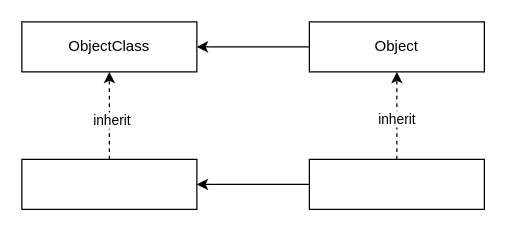
Some shapes in this 506 by 231 pixel diagram are drawn without their labels. The centre of each missing label's shape, as x and y in pixels:
DeviceClass: the point at 109,183
DeviceState: the point at 396,183
